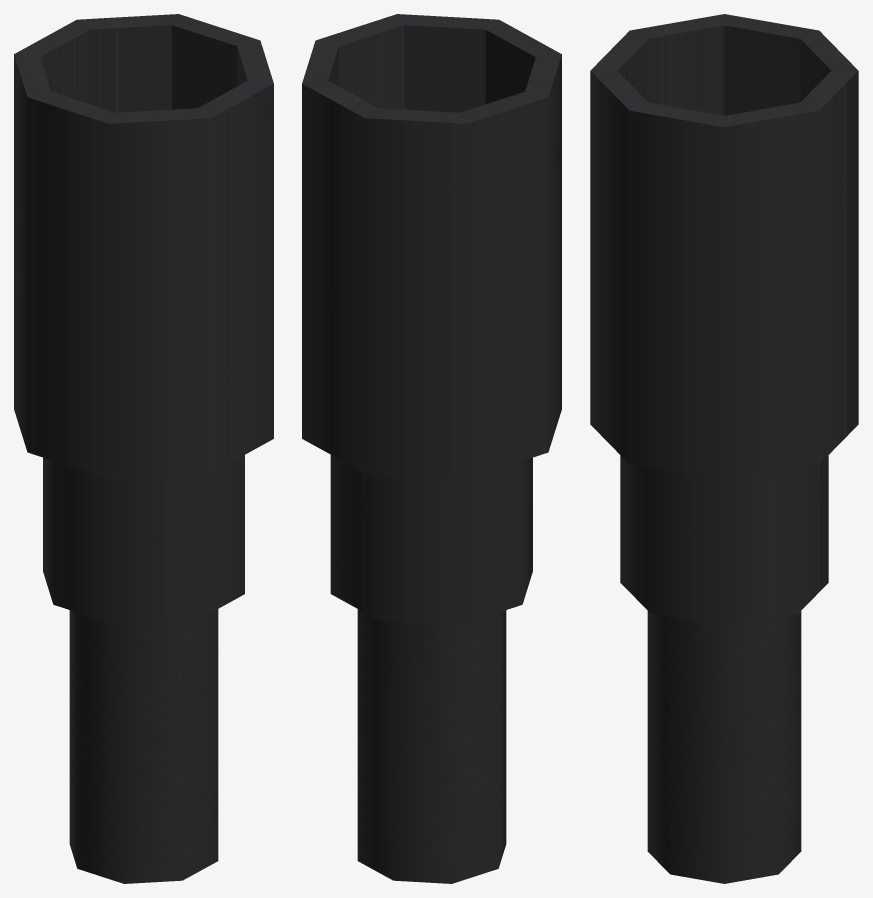
Rendered from Index_Screw.dae.
3 views of the same model, side by side, from view 1: azimuth 30°, elevation 25°; view 2: azimuth 150°, elevation 25°; view 3: azimuth 270°, elevation 25° (orthographic).
Visible parts, largest first — view 1: Index_Screw; view 2: Index_Screw; view 3: Index_Screw.
Part boxes in pixels (bbox=[...]): Index_Screw: bbox=[14, 14, 273, 883]; Index_Screw: bbox=[302, 14, 561, 883]; Index_Screw: bbox=[590, 14, 858, 883].
Bounding box in the file's own units: 0.00212 × 0.00212 × 0.00681.
1 material, 1 textured.
